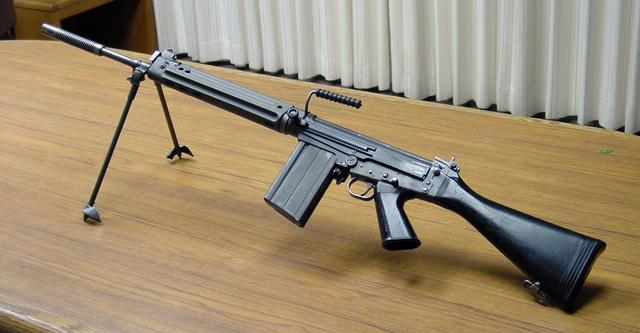rifle: (32, 11, 605, 309)
